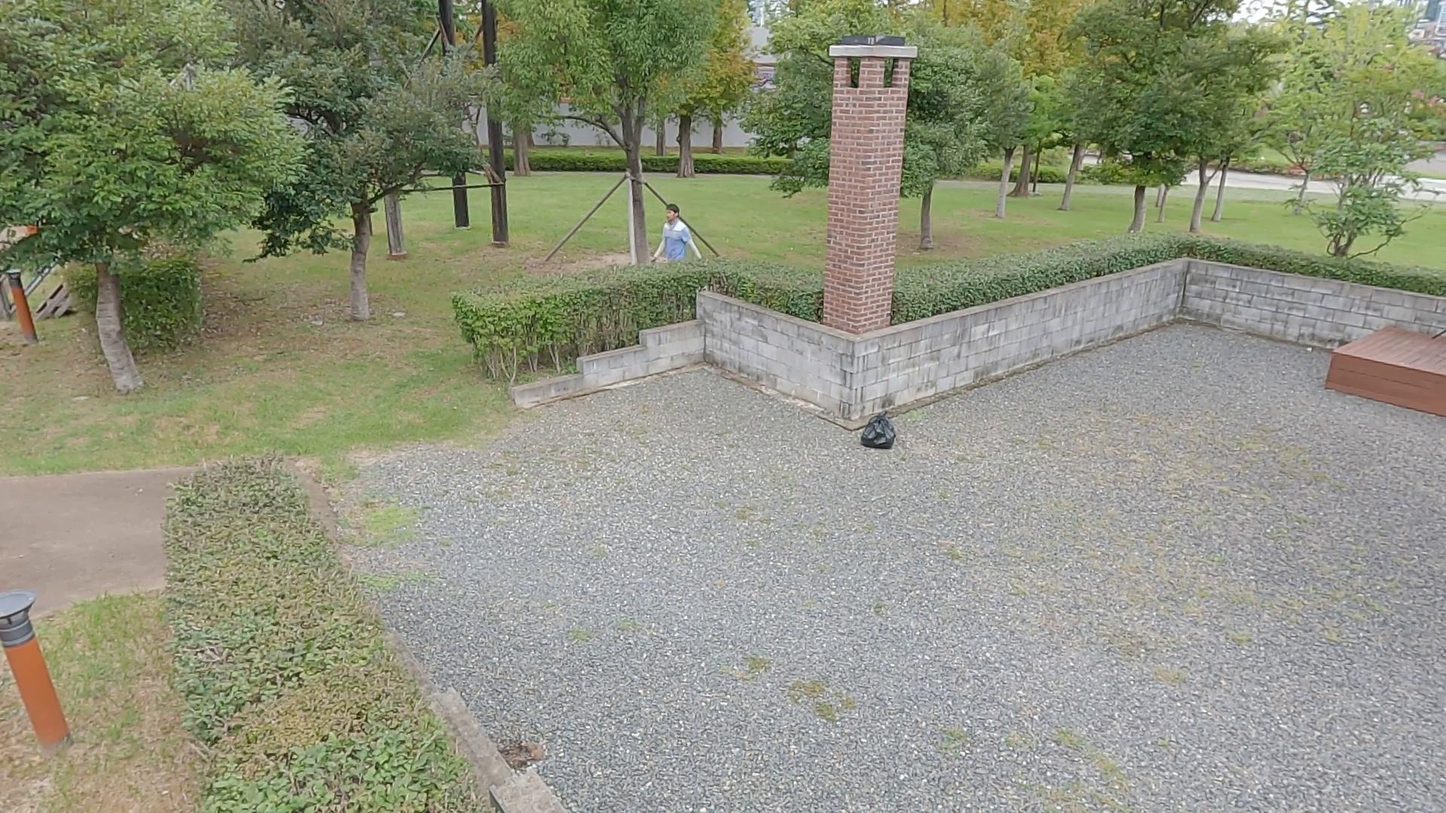person: (649, 204, 705, 265)
trash: (860, 410, 899, 451)
